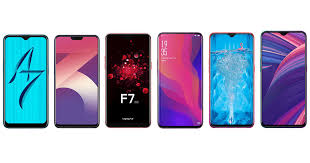oppo: (258, 28, 308, 128), (50, 34, 100, 129), (104, 34, 153, 129), (155, 32, 204, 127), (206, 32, 255, 127), (1, 33, 49, 128)
